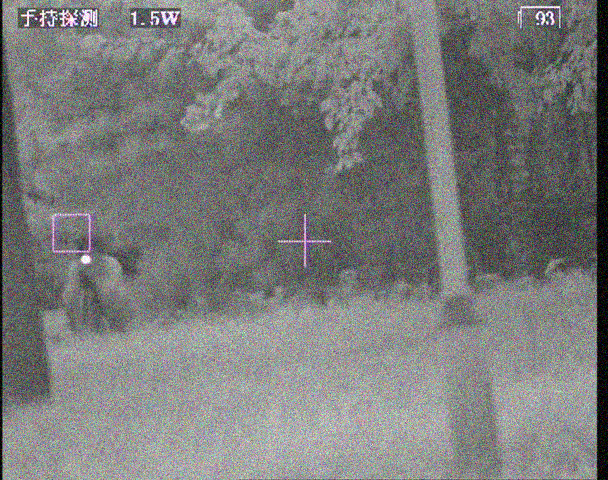my: (79, 254, 93, 265)
